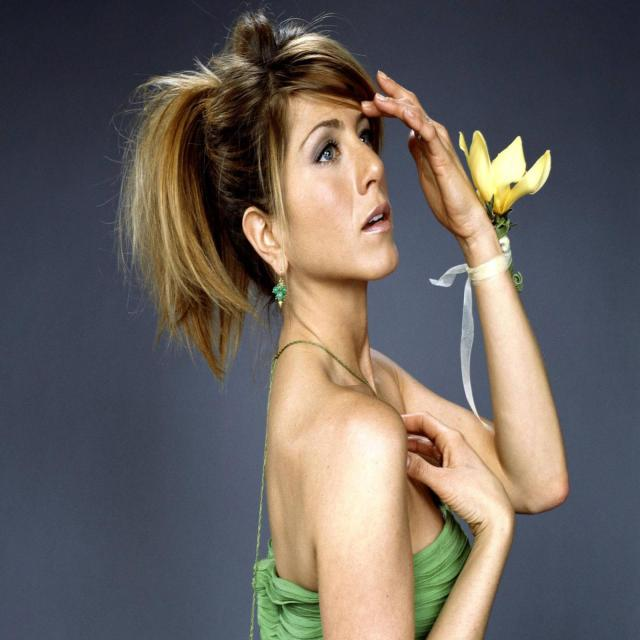no-earmuff: (235, 194, 304, 292)
